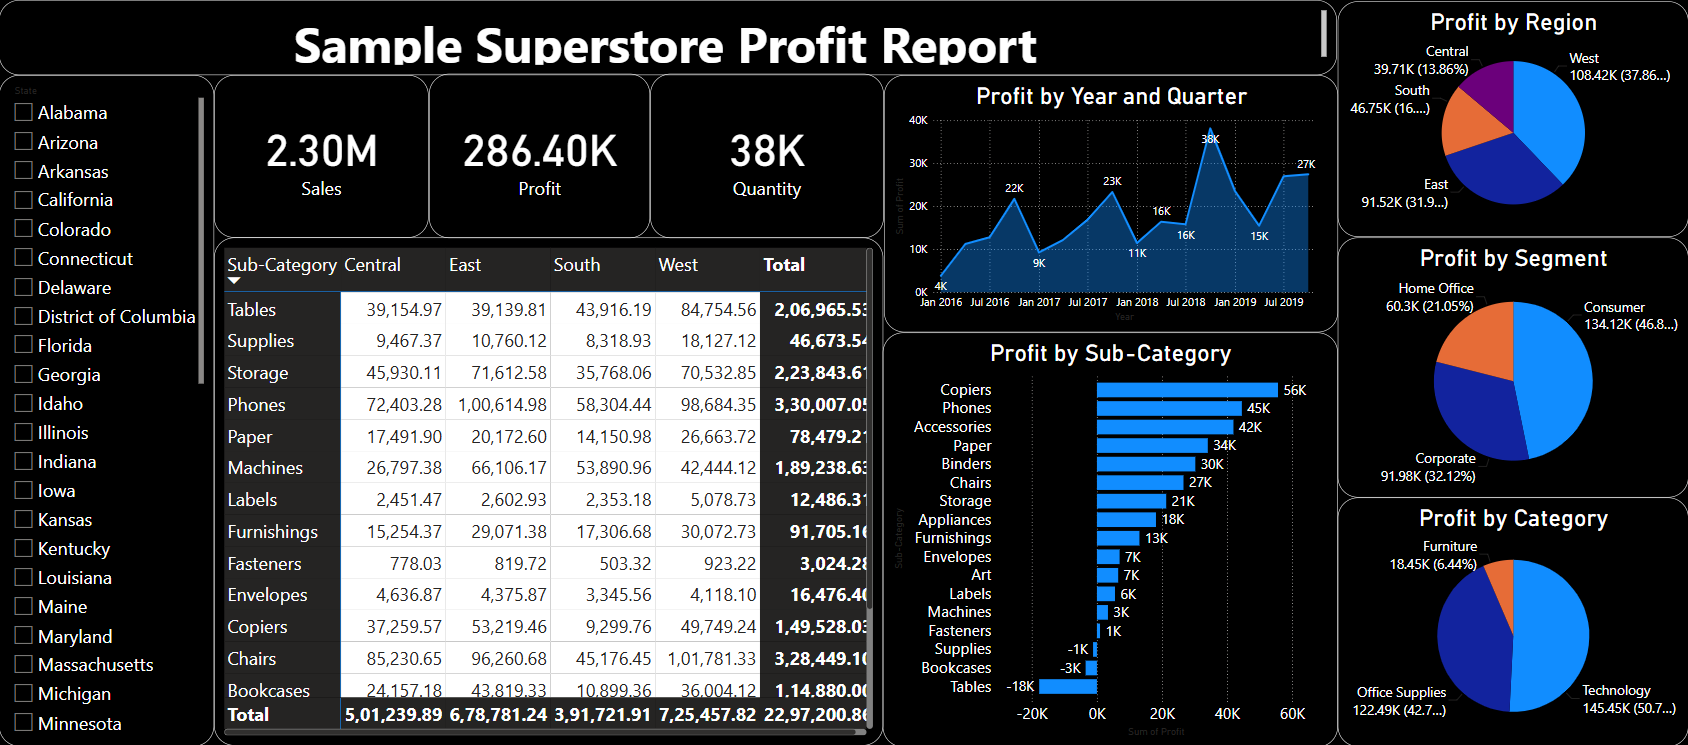

This screenshot's page, from the dashboard's own definition file:
{"tool":"powerbi","page":{"name":"Page 1","canvas":[2500,1104],"ordinal":0},"visuals":[{"type":"textbox","box":[0,0,1980.4,111.3],"z":0},{"type":"pieChart","title":"Profit by Category","fields":{"Category":["Orders.Category"],"Y":["Sum(Orders.Profit)"]},"box":[1981.1,735.9,519.3,368.9],"z":1000},{"type":"pieChart","title":"Profit by Segment","fields":{"Y":["Sum(Orders.Profit)"],"Category":["Orders.Segment"]},"box":[1981.1,350.9,519.3,385],"z":2000},{"type":"pieChart","title":"Profit by Region","fields":{"Y":["Sum(Orders.Profit)"],"Category":["Orders.Region"]},"box":[1981.1,2,519.3,348.9],"z":3000},{"type":"barChart","title":"Profit by Sub-Category","fields":{"Category":["Orders.Sub-Category"],"Y":["Sum(Orders.Profit)"]},"box":[1307.4,491.3,673.7,613.6],"z":4000},{"type":"areaChart","title":"Profit by Year and Quarter","fields":{"Category":["Orders.Order Date.Variation.Date Hierarchy.Year","Orders.Order Date.Variation.Date Hierarchy.Quarter","Orders.Order Date.Variation.Date Hierarchy.Month","Orders.Order Date.Variation.Date Hierarchy.Day"],"Y":["Sum(Orders.Profit)"]},"box":[1309.4,110.3,671.7,381],"z":5000},{"type":"slicer","fields":{"Values":["Orders.State"]},"box":[0,111,318.2,993.4],"z":6000},{"type":"pivotTable","fields":{"Rows":["Orders.Sub-Category"],"Columns":["Orders.Region"],"Values":["Sum(Orders.Sales)"]},"box":[318,352,990.2,751.7],"z":7000},{"type":"card","fields":{"Values":["Sum(Orders.Sales)"]},"box":[318,111.3,318,240.7],"z":8000},{"type":"card","fields":{"Values":["Sum(Orders.Profit)"]},"box":[635.9,109,327,243],"z":9000},{"type":"card","fields":{"Values":["Sum(Orders.Quantity)"]},"box":[962.9,109,345.2,243],"z":10000}]}

Visuals, with their boxes in screenshot pixels (x1, y1, x2, y2), scaled from the page's 2500x1104 canvas onto the 1688x745 screenshot:
textbox: [x1=0, y1=0, x2=1337, y2=75]
"Profit by Category" pieChart: [x1=1338, y1=497, x2=1687, y2=744]
"Profit by Segment" pieChart: [x1=1338, y1=237, x2=1687, y2=497]
"Profit by Region" pieChart: [x1=1338, y1=1, x2=1687, y2=237]
"Profit by Sub-Category" barChart: [x1=883, y1=332, x2=1338, y2=744]
"Profit by Year and Quarter" areaChart: [x1=884, y1=74, x2=1338, y2=332]
slicer - Orders.State: [x1=0, y1=75, x2=215, y2=744]
pivotTable - Orders.Sub-Category x Orders.Region: [x1=215, y1=238, x2=883, y2=744]
card - Sum(Orders.Sales): [x1=215, y1=75, x2=429, y2=238]
card - Sum(Orders.Profit): [x1=429, y1=74, x2=650, y2=238]
card - Sum(Orders.Quantity): [x1=650, y1=74, x2=883, y2=238]
